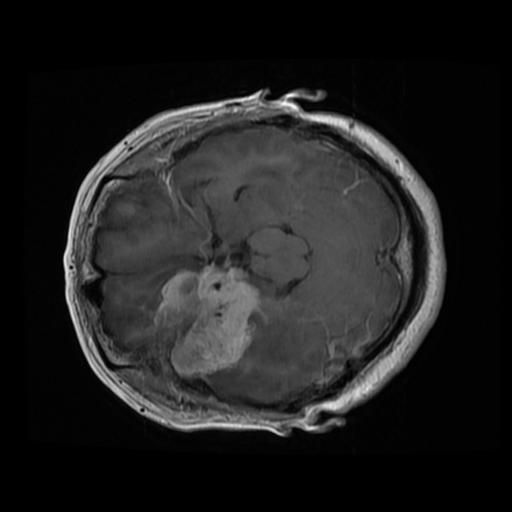meningioma: (153, 264, 257, 378)
